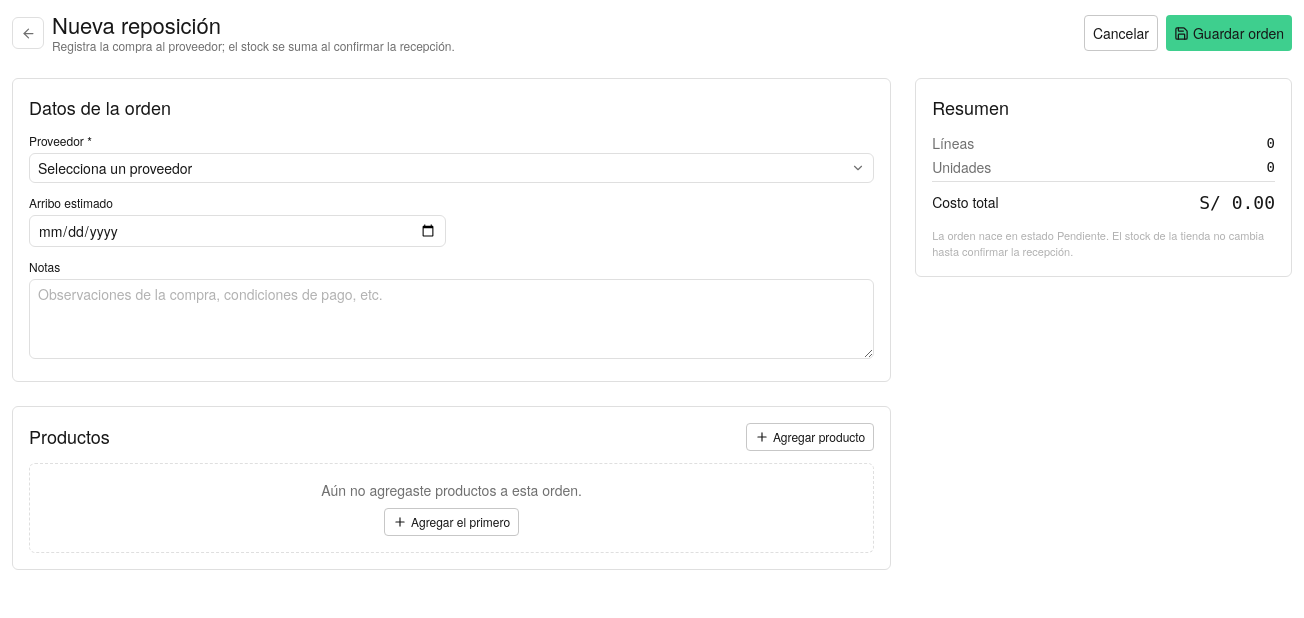
NuevaReposicionPage (HU036 CA02/CA10) › valida que cada línea tenga producto
The width and height of the screenshot is (1304, 618).
Click the dropdown: (115, 168) [29,153,874,183]
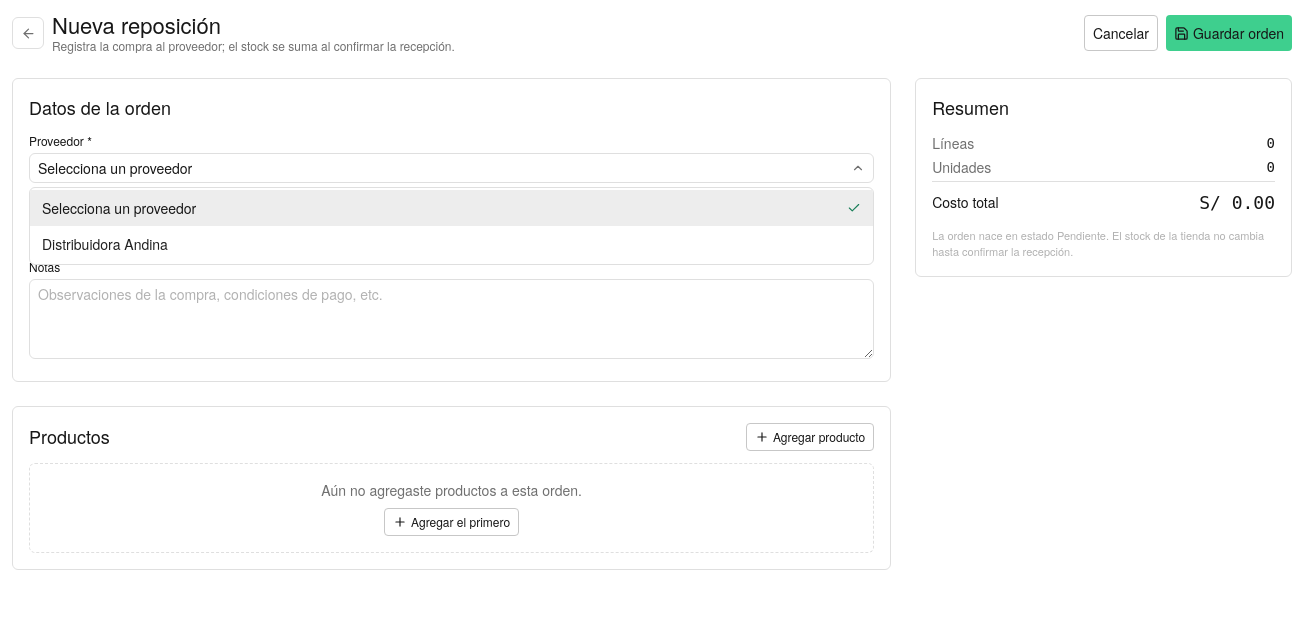
Click the option "Distribuidora Andina": (105, 244) [42,234,168,254]
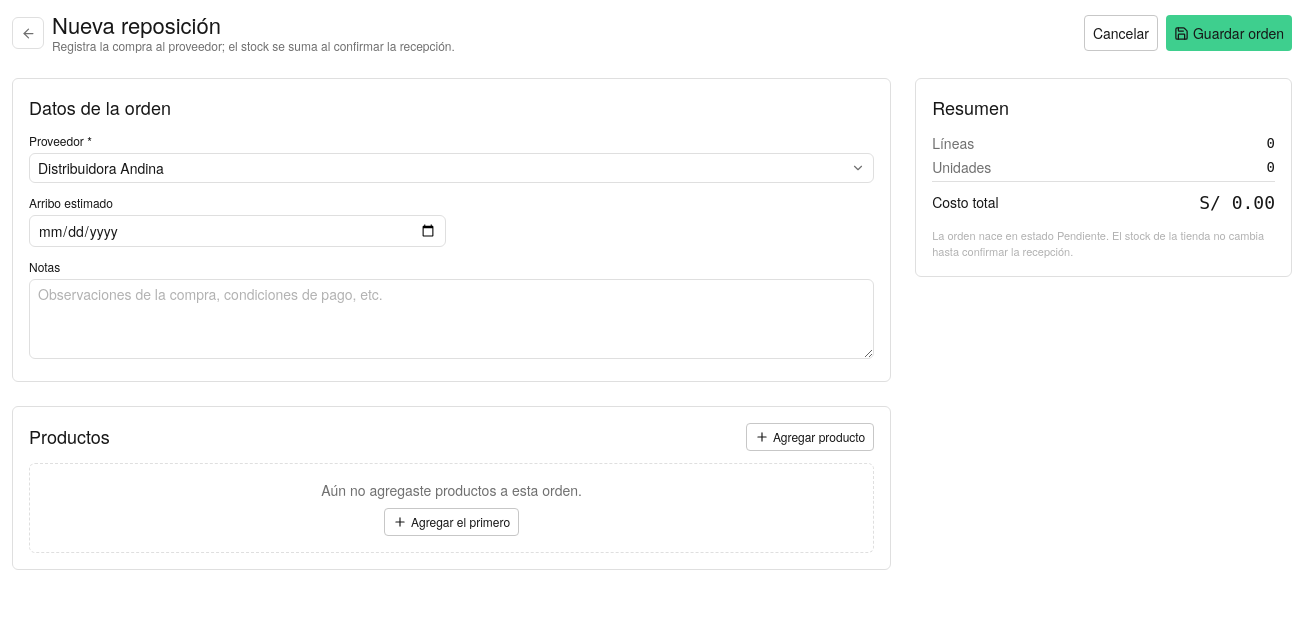
Click the button "Agregar producto": (810, 437) [746,423,874,451]
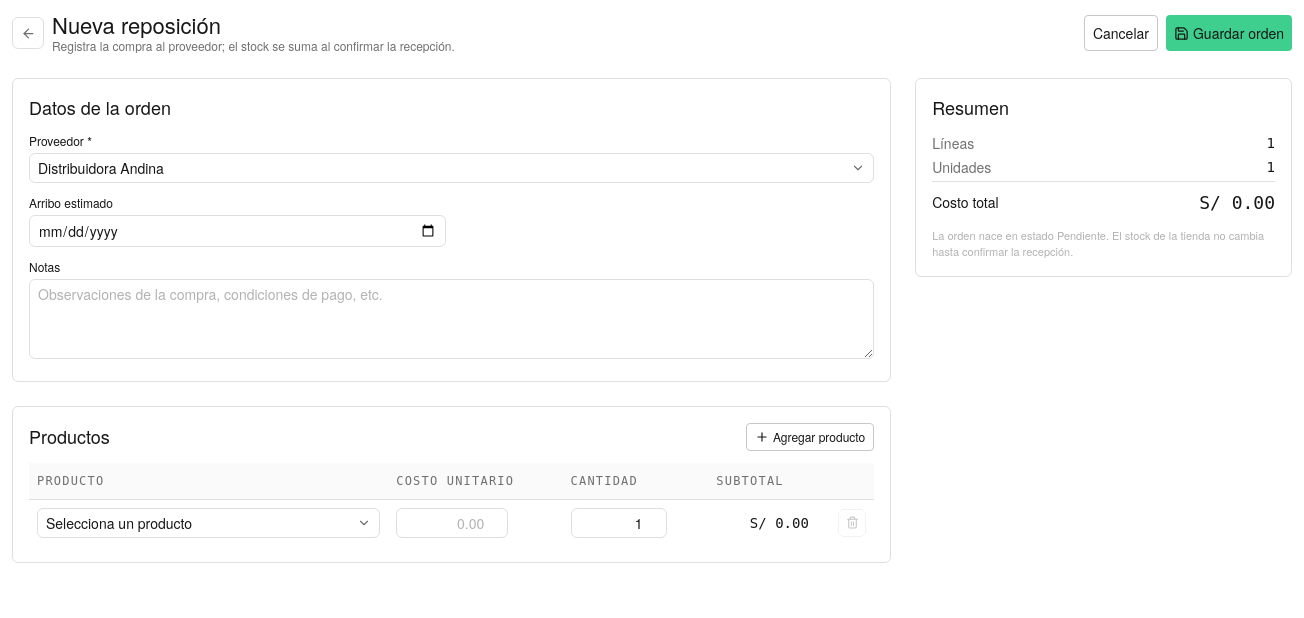
Click the button "Guardar orden": (1229, 33) [1166,15,1292,51]
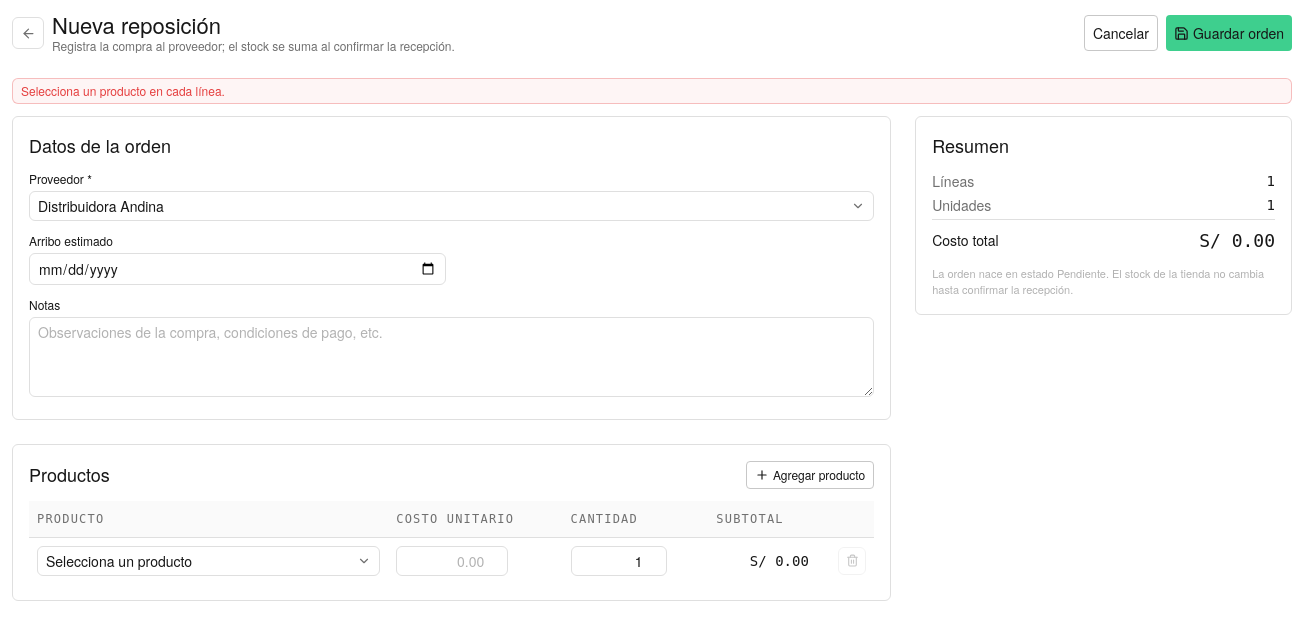
expect the message reads "Selecciona un producto en cada línea.": met, box [21,82,225,99]
